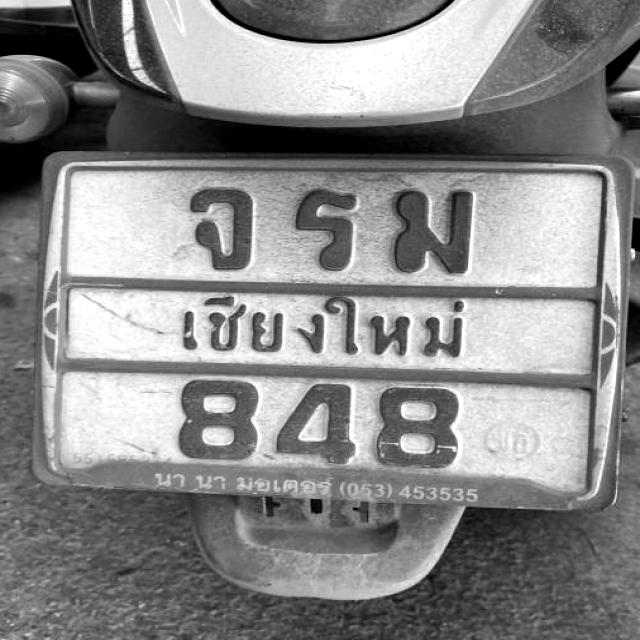letters: (377, 182, 472, 280), (288, 180, 366, 279), (379, 386, 468, 472), (182, 181, 255, 284), (192, 367, 264, 459), (288, 378, 362, 462)
license-plate: (43, 161, 632, 503)
province: (162, 291, 485, 368)
